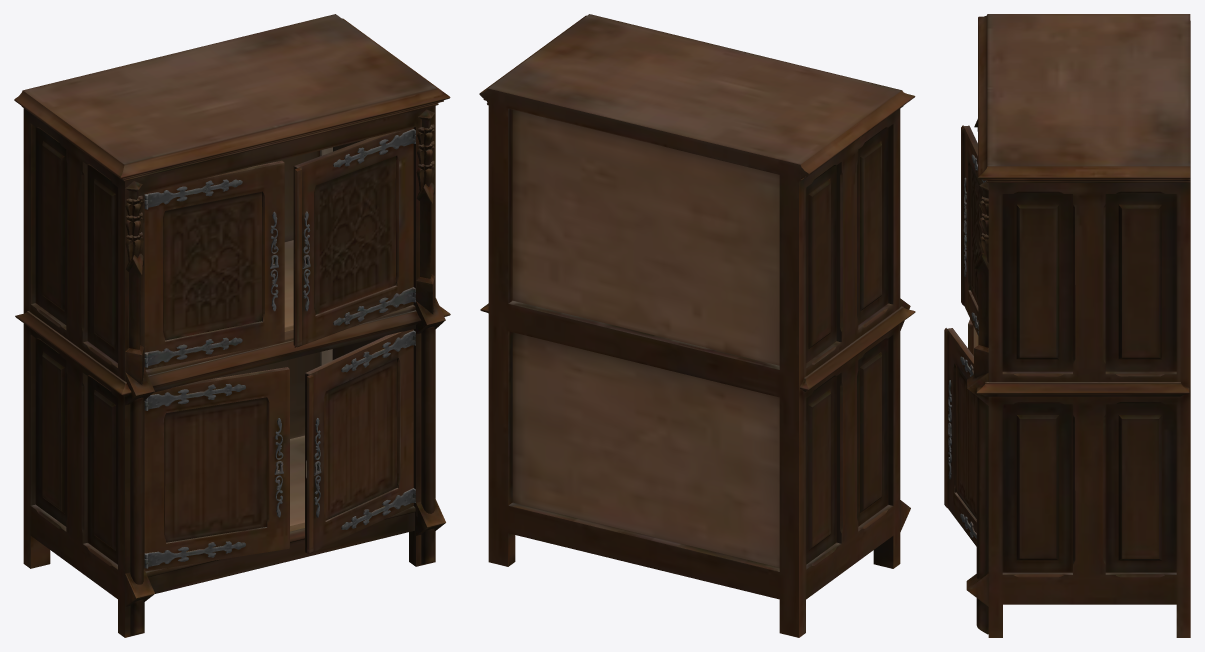
File: GothicCabinet_01.glb
3 views of the same model, side by side, from view 1: azimuth 30°, elevation 25°; view 2: azimuth 150°, elevation 25°; view 3: azimuth 270°, elevation 25° (orthographic).
Parts seen in each view (by area): view 1: GothicCabinet_01_cabinet; view 2: GothicCabinet_01_cabinet; view 3: GothicCabinet_01_cabinet.
Part boxes in pixels (bbox=[...]): GothicCabinet_01_cabinet: bbox=[14, 14, 450, 637]; GothicCabinet_01_cabinet: bbox=[479, 14, 915, 637]; GothicCabinet_01_cabinet: bbox=[944, 14, 1190, 637].
Bounding box in the file's own units: 1.72 × 2.36 × 1.12.
1 material, 1 textured.
